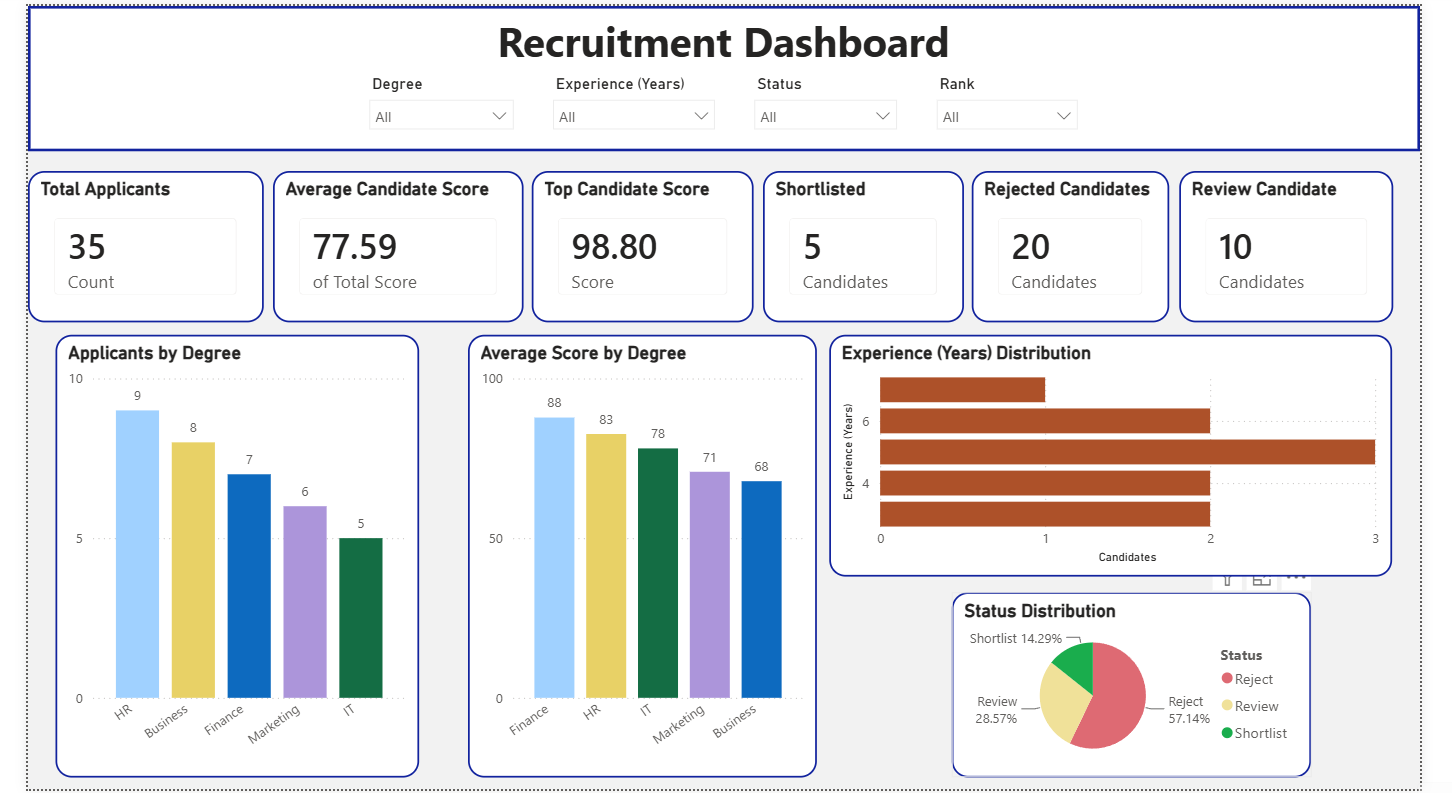

This screenshot's page, from the dashboard's own definition file:
{"tool":"powerbi","page":{"name":"Page 1","canvas":[1280,720],"ordinal":0},"visuals":[{"type":"cardVisual","title":"Total Applicants","fields":{"Data":["CountNonNull(Sheet1.Candidate ID)"]},"box":[0,151.4,216.6,138.9],"z":0},{"type":"cardVisual","title":"Average Candidate Score","fields":{"Data":["Avg(Sheet1.Total Score)"]},"box":[225,151.4,230.5,138.9],"z":1000},{"type":"cardVisual","title":"Top Candidate Score","fields":{"Data":["Max(Sheet1.Total Score)"]},"box":[463.8,151.4,204.1,138.9],"z":2000},{"type":"cardVisual","title":"Review Candidate ","fields":{"Data":["Sheet1.Measure 2"]},"box":[1058.1,151.4,197.2,138.9],"z":3000},{"type":"cardVisual","title":"Shortlisted ","fields":{"Data":["Sheet1.Measure"]},"box":[676.2,151.4,184.7,138.9],"z":4000},{"type":"cardVisual","title":"Rejected Candidates","fields":{"Data":["Sheet1.Rejected"]},"box":[867.9,151.4,181.9,138.9],"z":5000},{"type":"clusteredColumnChart","title":"Applicants by Degree ","fields":{"Category":["Sheet1.Degree"],"Y":["CountNonNull(Sheet1.Candidate ID)"]},"box":[25,302.7,334.7,406.9],"z":6000},{"type":"pieChart","title":"Status Distribution","fields":{"Category":["Sheet1.Status"],"Y":["CountNonNull(Sheet1.Candidate ID)"]},"box":[849.8,538.8,330.5,170.8],"z":7000},{"type":"columnChart","title":"Average Score by Degree","fields":{"Y":["Avg(Sheet1.Total Score)"],"Category":["Sheet1.Degree"]},"box":[404.1,302.7,320.8,406.9],"z":8000},{"type":"barChart","title":" Experience (Years) Distribution","fields":{"Category":["Sheet1.Experience (Years)"],"Y":["Sheet1.Candidates"]},"box":[737.3,302.7,517.9,222.2],"z":9000},{"type":"textbox","box":[0,0,1280.3,133.3],"z":10000},{"type":"slicer","fields":{"Values":["Sheet1.Degree"]},"box":[303,57,152.9,63.9],"z":11000},{"type":"slicer","fields":{"Values":["Sheet1.Status"]},"box":[658,57,151.5,63.9],"z":12000},{"type":"slicer","fields":{"Values":["Sheet1.Experience (Years)"]},"box":[472.2,57,169.6,63.9],"z":13000},{"type":"slicer","fields":{"Values":["Sheet1.Rank"]},"box":[825.7,57,150.1,66.7],"z":14001}]}

Visuals, with their boxes in screenshot pixels (x1, y1, x2, y2), scaled from the page's 1280x720 canvas onto the 1452x793 screenshot:
"Total Applicants" cardVisual: (left=0, top=167, right=246, bottom=320)
"Average Candidate Score" cardVisual: (left=255, top=167, right=517, bottom=320)
"Top Candidate Score" cardVisual: (left=526, top=167, right=758, bottom=320)
"Review Candidate " cardVisual: (left=1200, top=167, right=1424, bottom=320)
"Shortlisted " cardVisual: (left=767, top=167, right=977, bottom=320)
"Rejected Candidates" cardVisual: (left=985, top=167, right=1191, bottom=320)
"Applicants by Degree " clusteredColumnChart: (left=28, top=333, right=408, bottom=782)
"Status Distribution" pieChart: (left=964, top=593, right=1339, bottom=782)
"Average Score by Degree" columnChart: (left=458, top=333, right=822, bottom=782)
" Experience (Years) Distribution" barChart: (left=836, top=333, right=1424, bottom=578)
textbox: (left=0, top=0, right=1451, bottom=147)
slicer - Sheet1.Degree: (left=344, top=63, right=517, bottom=133)
slicer - Sheet1.Status: (left=746, top=63, right=918, bottom=133)
slicer - Sheet1.Experience (Years): (left=536, top=63, right=728, bottom=133)
slicer - Sheet1.Rank: (left=937, top=63, right=1107, bottom=136)
